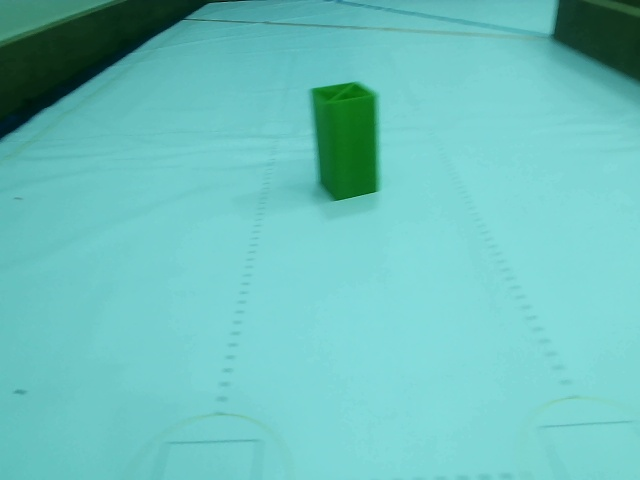green: (314, 89, 377, 195)
